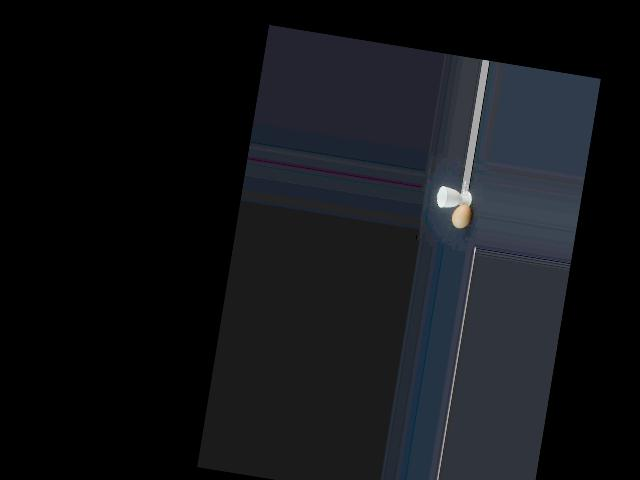egg: (450, 202, 471, 229)
